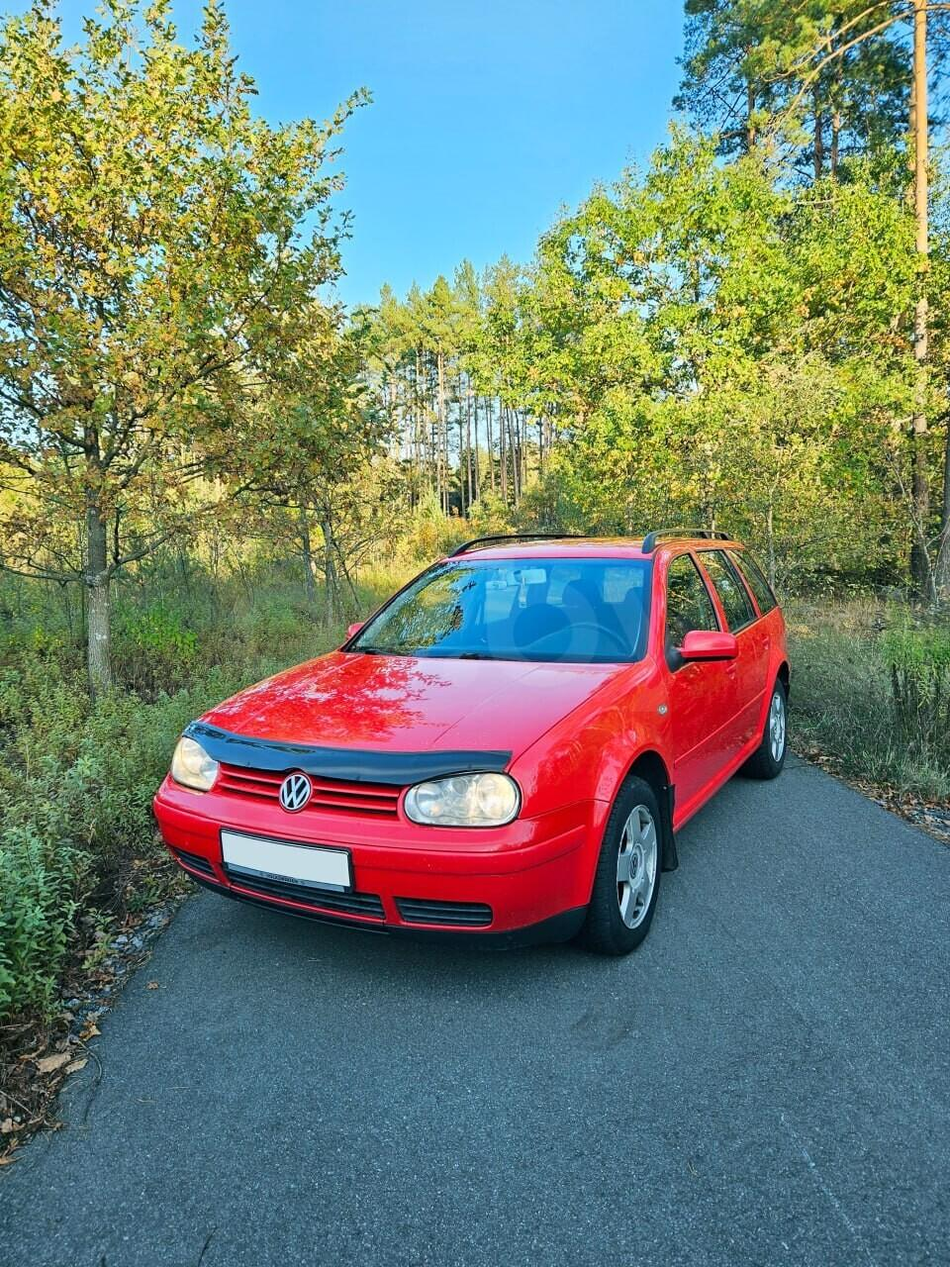Golf_1997-2006: (153, 535, 800, 960)
